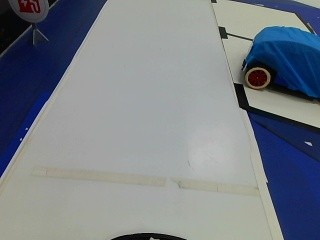battery: (3, 0, 56, 22)
car: (232, 24, 320, 98)
